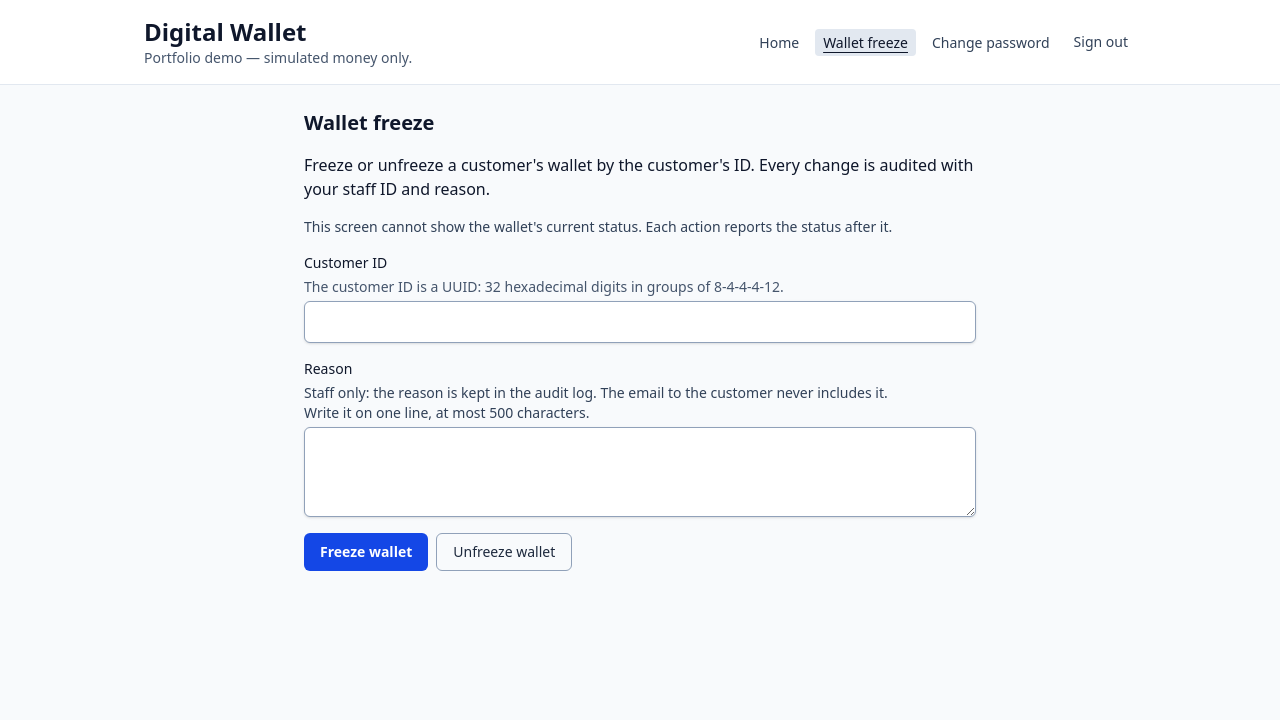
it: /admin/customers › asks for the id when it is empty and focuses the reason when only the reason is wrong
Click the button "Unfreeze wallet" at {"x": 504, "y": 552}, box [436,533,572,571]
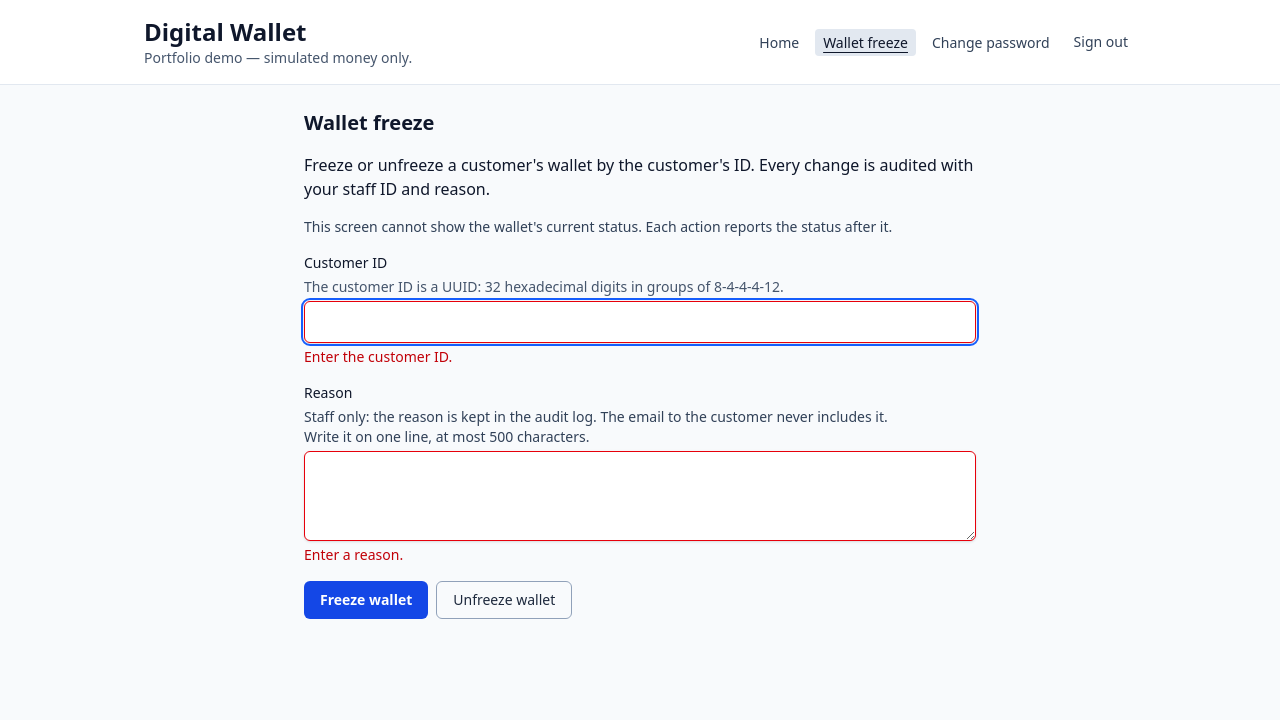
Result: the text "Enter the customer ID." is shown at [304,347,452,366]
Type "0a1b2c3d-4e5f-4a6b-8c7d-8e9f00112233" into the field labelled "Customer ID" at {"x": 640, "y": 322}, box [304,301,976,343]
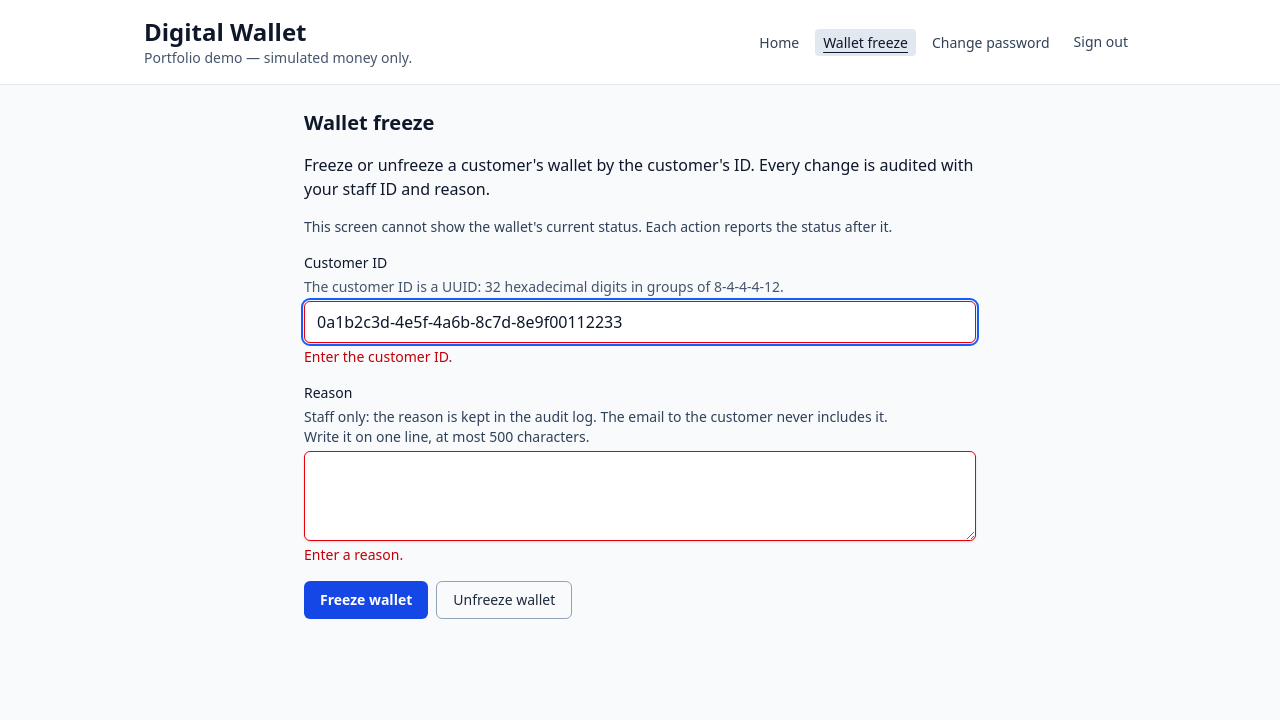
Type "!!!" into the text box labelled "Reason" at {"x": 640, "y": 496}, box [304,451,976,541]
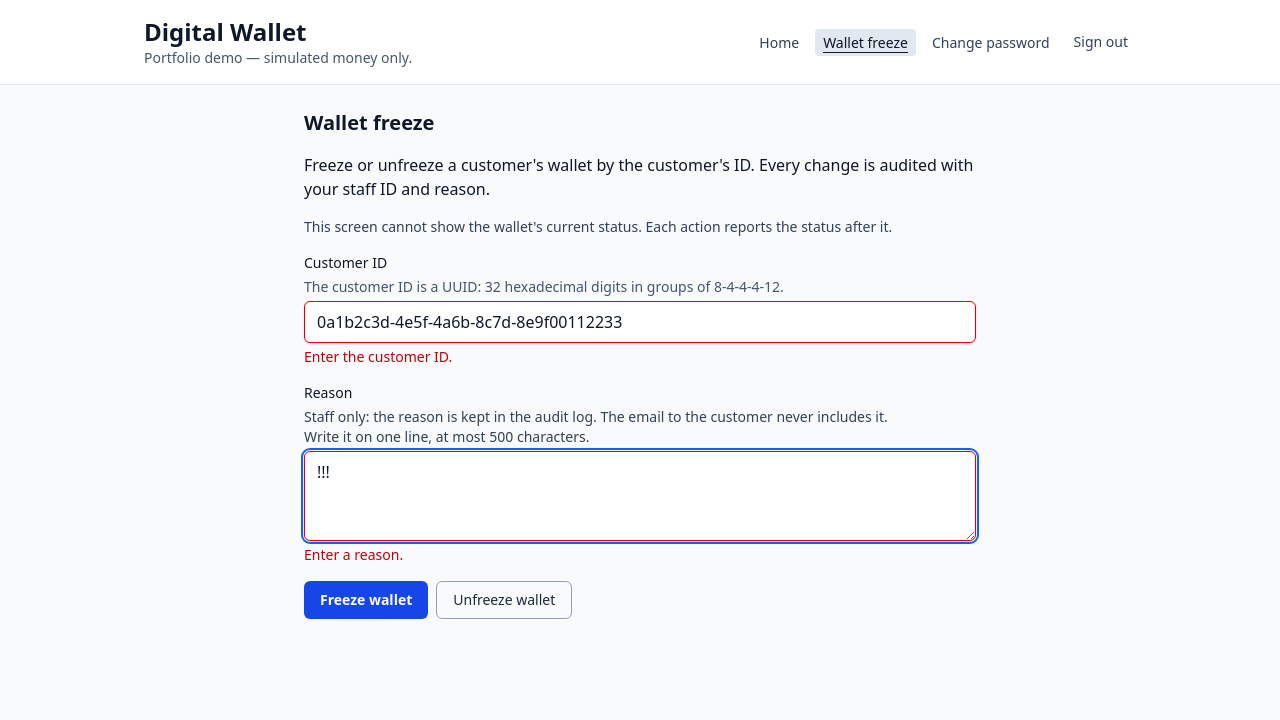
Click the button "Unfreeze wallet" at {"x": 504, "y": 600}, box [436,581,572,619]
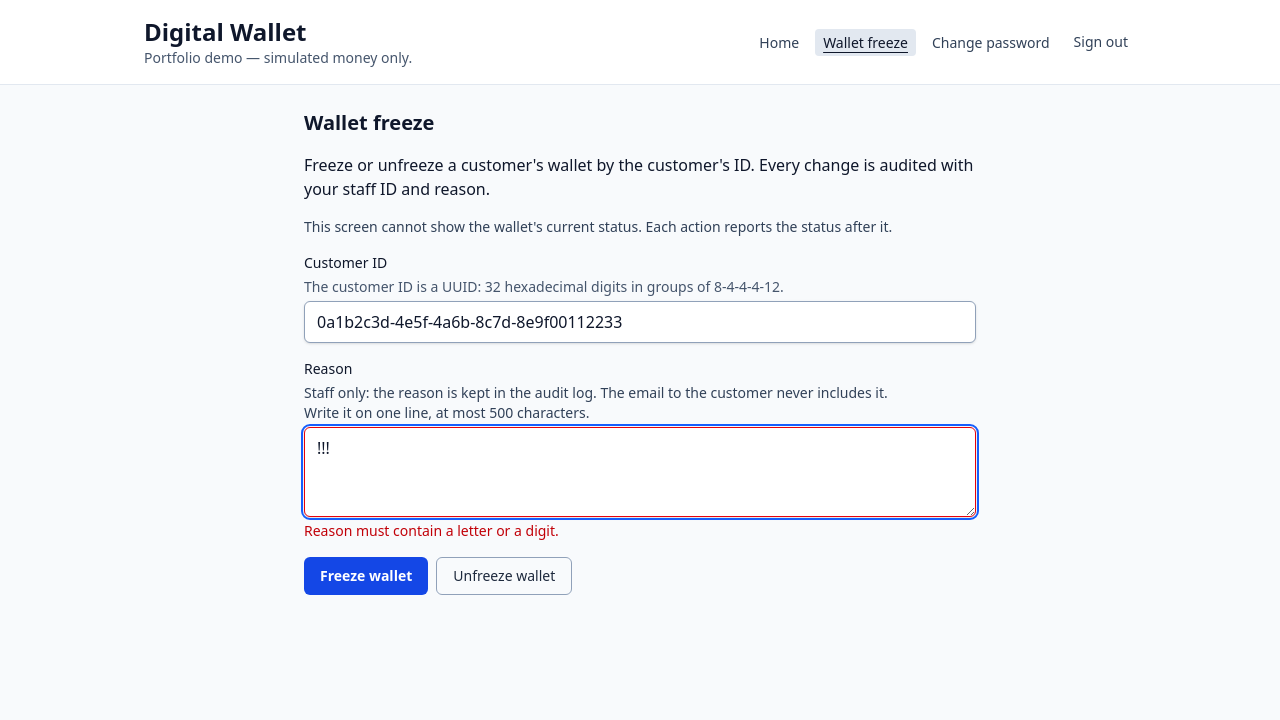
Result: the text "Reason must contain a letter or a digit." is shown at [304,521,559,540]
